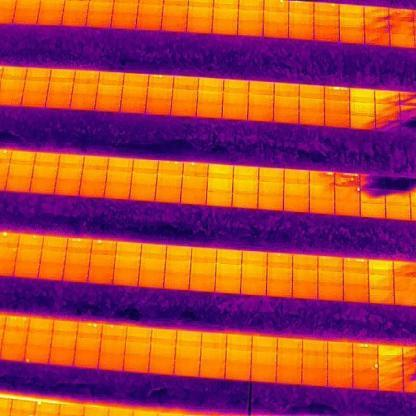Diode: (148, 74, 174, 88)
Hotspot: (24, 346, 51, 363), (2, 316, 30, 332), (353, 342, 378, 359), (182, 162, 210, 177), (308, 170, 334, 186), (334, 185, 360, 201), (18, 232, 44, 248), (91, 240, 116, 256), (102, 325, 128, 340), (66, 238, 91, 253), (324, 86, 350, 100), (157, 160, 183, 174), (334, 173, 360, 187), (182, 176, 208, 190), (76, 324, 102, 338), (352, 359, 378, 373), (314, 2, 339, 16), (174, 76, 198, 90), (268, 254, 292, 268), (344, 260, 368, 274), (36, 403, 60, 416), (264, 0, 290, 12)
Normal: (86, 10, 112, 28), (164, 273, 190, 291), (190, 274, 216, 292), (124, 354, 150, 372), (174, 358, 200, 376), (88, 268, 115, 285), (266, 281, 291, 299), (99, 352, 124, 370), (44, 94, 72, 110), (38, 8, 64, 25), (136, 13, 162, 30), (215, 277, 241, 294), (314, 26, 340, 43), (200, 359, 226, 376), (327, 371, 353, 388), (353, 373, 379, 390), (283, 196, 310, 212), (37, 262, 64, 278), (138, 272, 165, 288), (378, 344, 402, 362), (150, 355, 174, 373), (217, 249, 242, 266), (113, 269, 138, 286), (154, 188, 182, 203), (95, 96, 121, 112), (259, 166, 285, 182), (206, 191, 232, 207), (232, 194, 258, 210), (334, 202, 360, 218), (64, 264, 90, 280), (318, 284, 344, 300), (126, 326, 152, 342), (26, 332, 52, 348), (328, 341, 354, 357), (14, 7, 37, 25), (146, 99, 170, 116), (63, 9, 87, 26), (112, 12, 136, 29), (226, 363, 250, 380), (302, 369, 326, 386), (120, 98, 147, 113), (240, 280, 267, 295), (2, 332, 29, 347), (105, 182, 130, 198), (182, 188, 207, 204), (344, 286, 369, 302), (227, 334, 252, 350), (252, 336, 277, 352), (50, 348, 75, 364), (74, 350, 99, 366), (252, 352, 277, 368), (277, 368, 302, 384), (69, 96, 97, 110), (170, 102, 198, 116), (196, 104, 224, 118), (186, 6, 214, 20), (12, 262, 40, 276), (200, 333, 228, 347), (207, 178, 233, 193), (30, 179, 56, 194), (80, 182, 106, 197), (308, 199, 334, 214), (162, 17, 188, 32), (116, 242, 142, 257), (368, 289, 394, 304), (59, 154, 83, 170), (134, 158, 158, 174), (209, 163, 233, 179), (56, 180, 80, 196), (242, 264, 266, 280), (278, 338, 302, 354), (379, 362, 403, 378), (252, 366, 276, 382), (11, 400, 35, 416), (248, 106, 275, 120), (257, 196, 284, 210), (190, 248, 217, 262), (40, 249, 67, 263), (64, 252, 91, 266), (97, 72, 124, 86), (122, 74, 149, 88), (299, 98, 324, 113), (6, 176, 31, 191), (368, 275, 393, 290), (292, 283, 317, 298), (29, 318, 54, 333), (51, 334, 76, 349), (302, 341, 327, 356), (198, 78, 224, 92), (23, 81, 49, 95), (222, 106, 248, 120), (162, 4, 188, 18), (324, 114, 350, 128), (284, 170, 310, 184), (156, 174, 182, 188), (233, 180, 259, 194), (258, 182, 284, 196), (284, 182, 310, 196), (308, 186, 334, 200), (242, 252, 268, 266), (90, 255, 116, 269), (292, 256, 318, 270), (115, 256, 141, 270), (318, 258, 344, 272), (216, 264, 242, 278), (288, 25, 314, 39), (151, 329, 177, 343), (74, 338, 102, 351), (100, 338, 126, 352), (0, 346, 26, 360), (328, 357, 354, 371), (0, 79, 24, 94), (340, 4, 364, 19), (131, 187, 155, 202), (166, 247, 190, 262), (27, 68, 51, 83), (248, 82, 275, 95), (225, 350, 252, 363), (224, 80, 249, 94), (274, 108, 299, 122), (213, 8, 238, 22), (35, 152, 60, 166), (83, 157, 108, 171), (109, 158, 134, 172), (234, 166, 259, 180), (141, 245, 166, 259), (17, 248, 42, 262), (368, 260, 393, 274), (212, 21, 237, 35), (177, 332, 202, 346), (378, 377, 403, 391), (1, 66, 26, 80), (50, 70, 75, 84), (350, 90, 376, 103), (42, 237, 68, 250), (238, 23, 264, 36), (263, 25, 289, 38), (302, 356, 328, 369), (112, 0, 138, 13), (22, 95, 46, 109), (350, 103, 374, 117), (11, 151, 35, 165), (9, 164, 33, 178), (386, 205, 410, 219), (188, 20, 212, 34), (52, 321, 76, 335), (278, 354, 302, 368), (223, 93, 248, 106), (238, 10, 263, 23), (361, 204, 386, 217), (137, 0, 162, 13), (289, 0, 314, 13), (171, 90, 198, 102), (48, 83, 74, 95), (72, 82, 98, 94), (299, 87, 325, 99), (197, 92, 223, 104), (248, 95, 274, 107), (324, 101, 350, 113), (264, 11, 288, 24), (32, 166, 58, 178), (106, 172, 132, 184), (133, 174, 157, 187), (288, 13, 314, 25), (340, 18, 364, 31), (140, 259, 166, 271), (268, 268, 292, 281), (390, 21, 414, 34), (292, 270, 318, 282), (318, 272, 344, 284), (124, 342, 150, 354), (150, 343, 176, 355), (74, 72, 100, 84), (147, 88, 172, 100), (274, 96, 299, 108), (82, 170, 107, 182), (344, 274, 369, 286), (200, 348, 225, 360), (58, 168, 82, 180), (176, 346, 200, 358), (340, 31, 364, 43), (96, 85, 122, 96), (190, 264, 216, 275), (122, 87, 147, 98), (299, 113, 324, 124), (313, 16, 339, 26), (164, 262, 190, 272), (274, 86, 299, 96), (88, 0, 113, 10), (390, 36, 414, 46)
Shadow: (364, 32, 390, 48), (361, 188, 386, 204), (385, 190, 410, 206), (364, 6, 390, 20), (360, 174, 385, 188), (385, 176, 410, 190), (374, 105, 400, 118), (350, 117, 376, 130), (390, 8, 414, 22), (375, 91, 400, 104), (364, 20, 390, 32), (375, 118, 400, 130)
